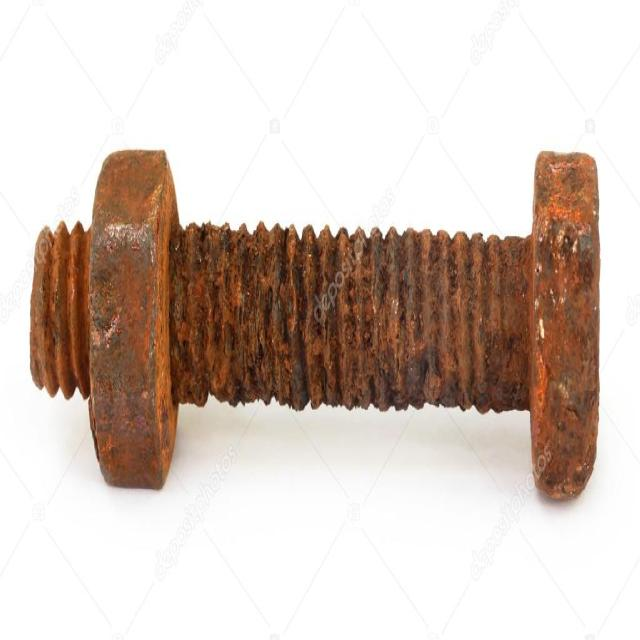corrosion: (21, 104, 609, 556)
